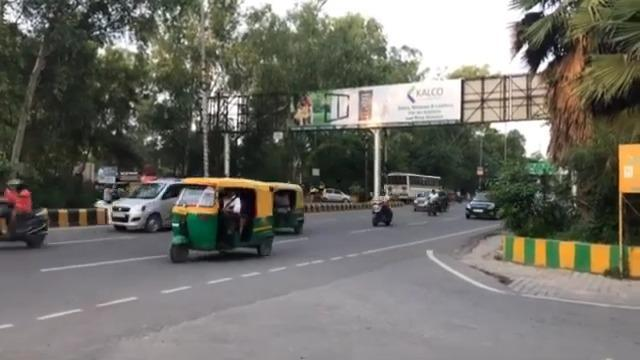Auto: (168, 176, 277, 262), (265, 181, 304, 234)
Bus: (385, 171, 441, 202)
